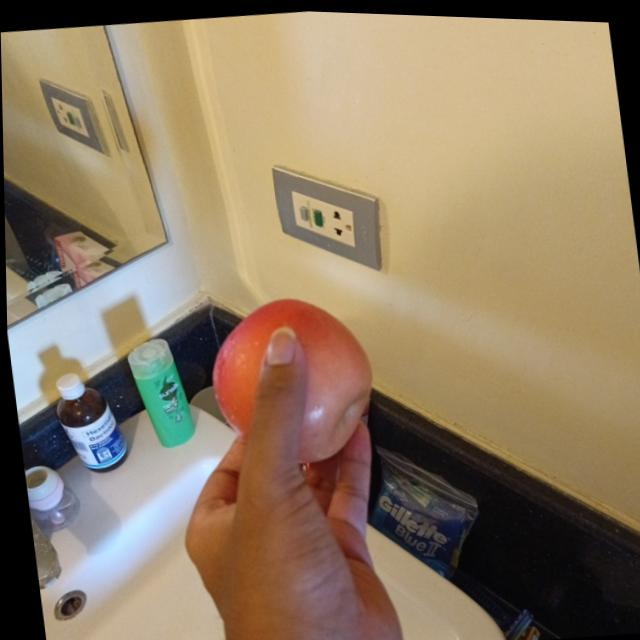apple: (202, 287, 379, 468)
